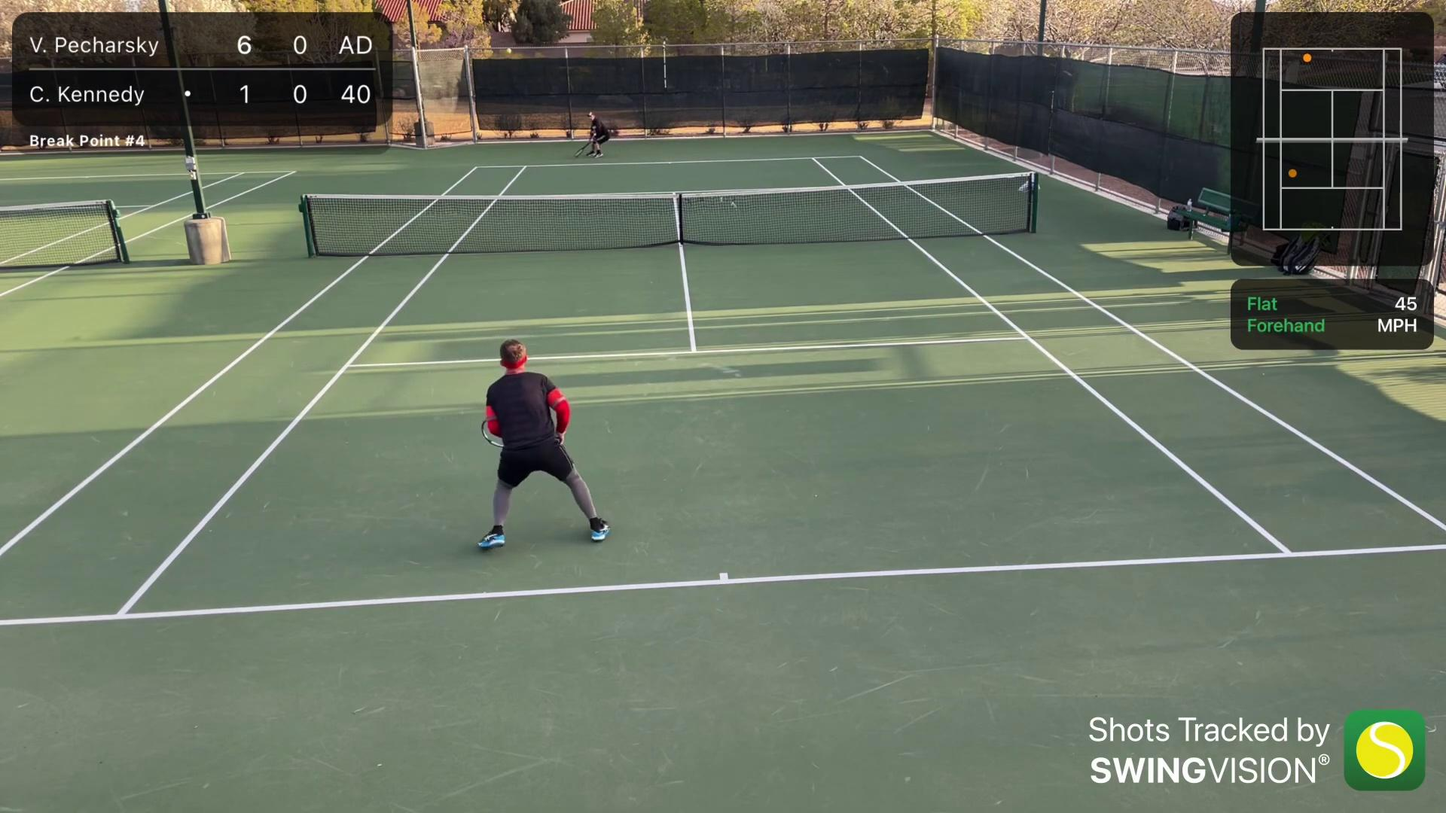ball: (504, 47, 513, 55)
